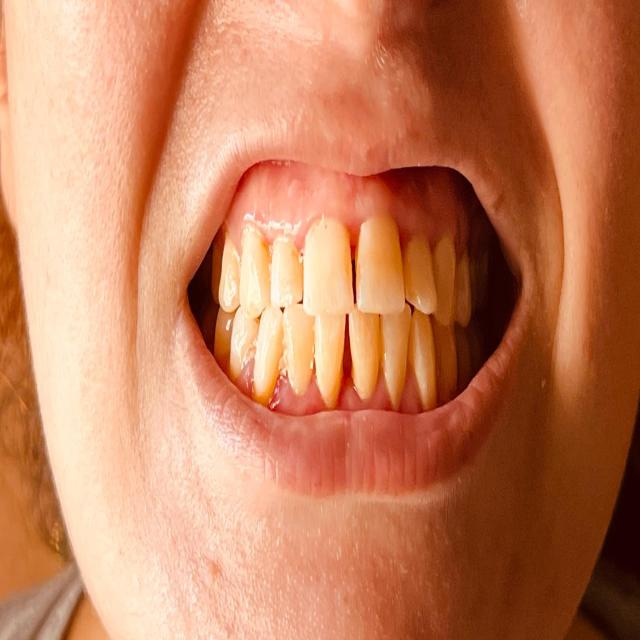tooth: (304, 228, 354, 310), (362, 225, 402, 312), (316, 316, 346, 404), (285, 313, 314, 393), (242, 239, 270, 312), (350, 320, 378, 386), (381, 312, 403, 394), (412, 319, 436, 393), (406, 242, 432, 308), (255, 319, 281, 383), (274, 242, 302, 301), (436, 238, 456, 319), (438, 323, 458, 393), (234, 313, 252, 375), (456, 254, 472, 318), (222, 245, 236, 311), (219, 312, 231, 360)
